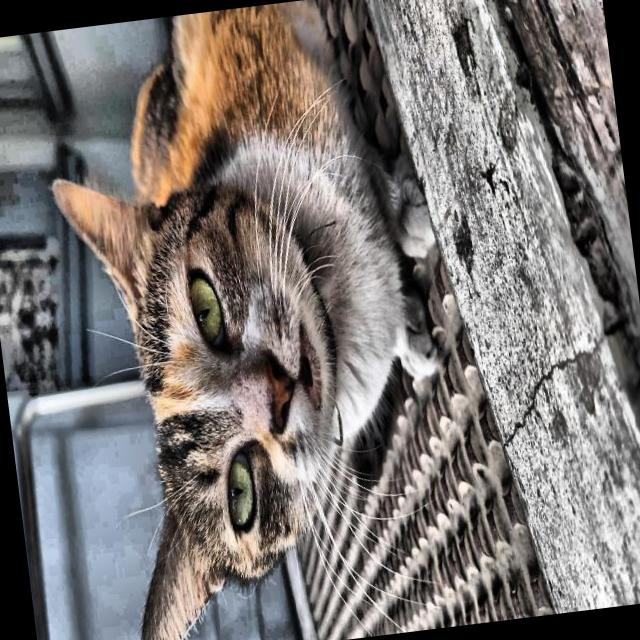Healthy skin: (63, 156, 232, 640), (228, 80, 374, 308), (260, 336, 400, 490)
